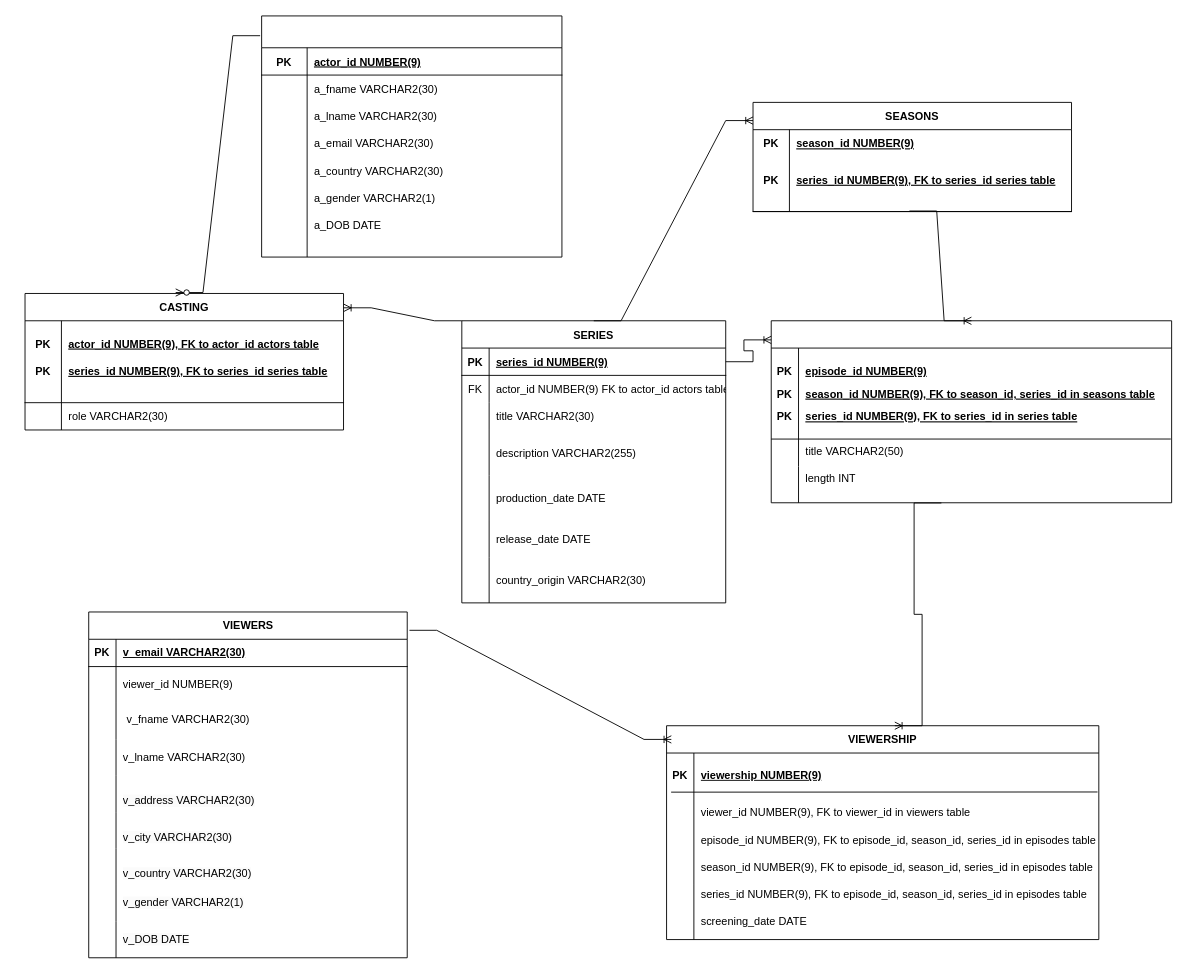
The diagram is 1188 pixels wide and 974 high, and some of its shapes have lost their labels. The shapes that lost their labels are listed below. From the top down, each one's box as (x1, y1, x2, y2) in pixels, then its label:
(261, 15, 562, 257): ACTORS
(770, 320, 1172, 503): EPISODES
